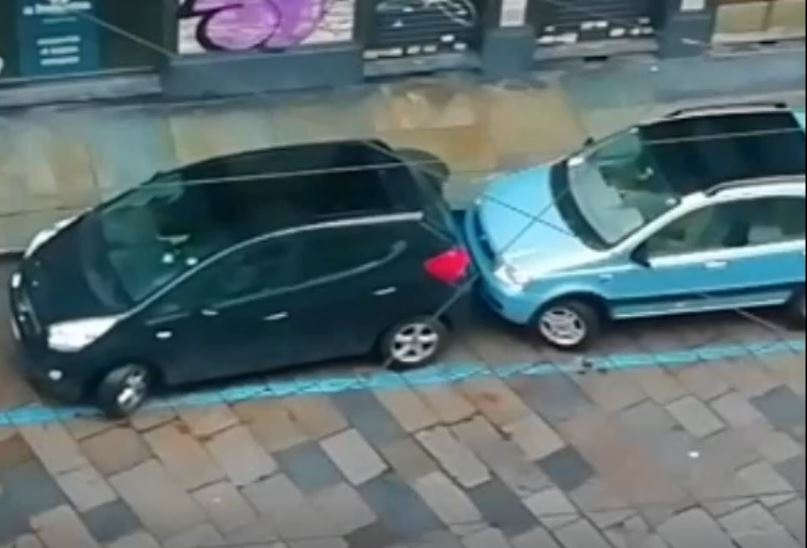Car: (11, 136, 473, 420), (464, 84, 805, 354)
